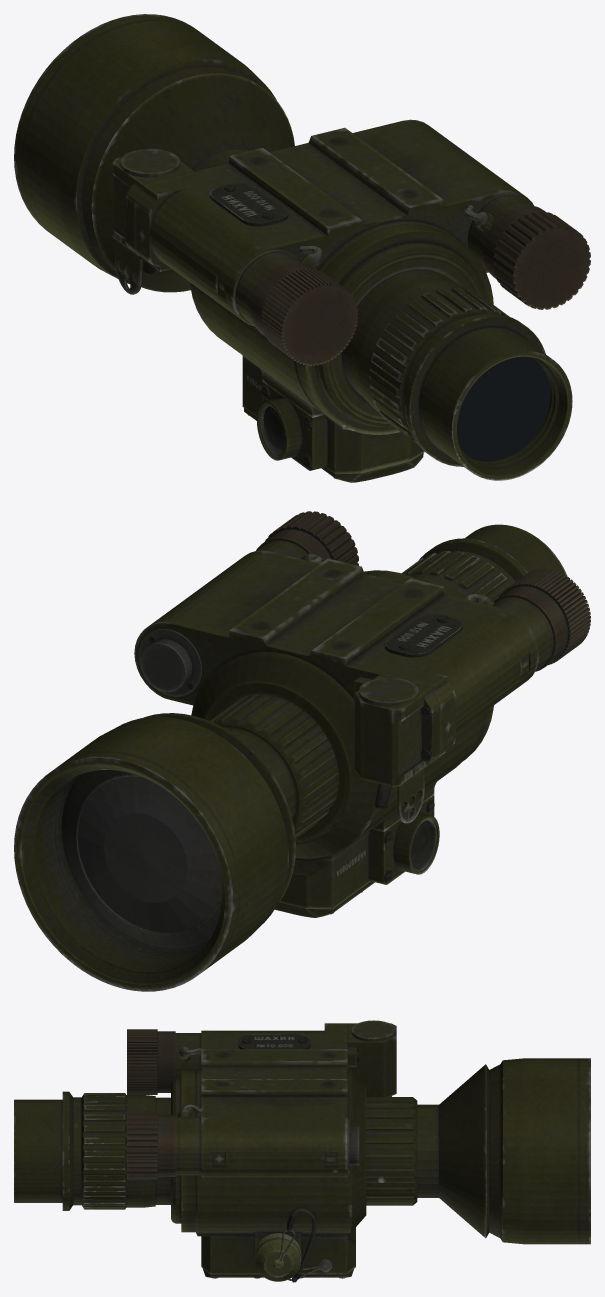
3 renders of one model, top to bottom at view 1: azimuth 30°, elevation 25°; view 2: azimuth 150°, elevation 25°; view 3: azimuth 270°, elevation 25°, orthographic. The views are drawn at different scales.
Parts seen in each view (by area): view 1: TW_67641b461c2eb66ade05dba6_PZ_Import; view 2: TW_67641b461c2eb66ade05dba6_PZ_Import; view 3: TW_67641b461c2eb66ade05dba6_PZ_Import.
Part boxes in pixels (x1,y1,x2,y2): TW_67641b461c2eb66ade05dba6_PZ_Import: [14, 14, 590, 482]; TW_67641b461c2eb66ade05dba6_PZ_Import: [14, 511, 590, 991]; TW_67641b461c2eb66ade05dba6_PZ_Import: [14, 1020, 590, 1282].
Bounding box in the file's own units: 0.0631 × 0.1376 × 0.0529.
Materials: 1 (1 with a texture image).
